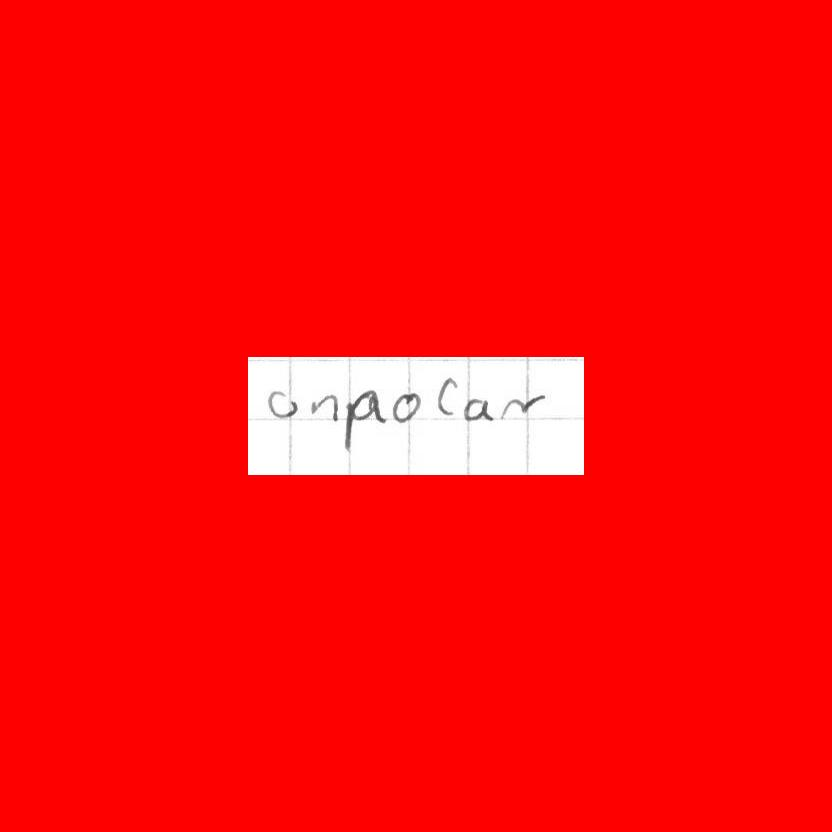Char: (344, 391, 382, 451), (502, 393, 543, 419), (391, 390, 420, 424), (267, 388, 297, 419), (435, 375, 457, 417), (463, 395, 491, 422), (311, 392, 338, 419)
